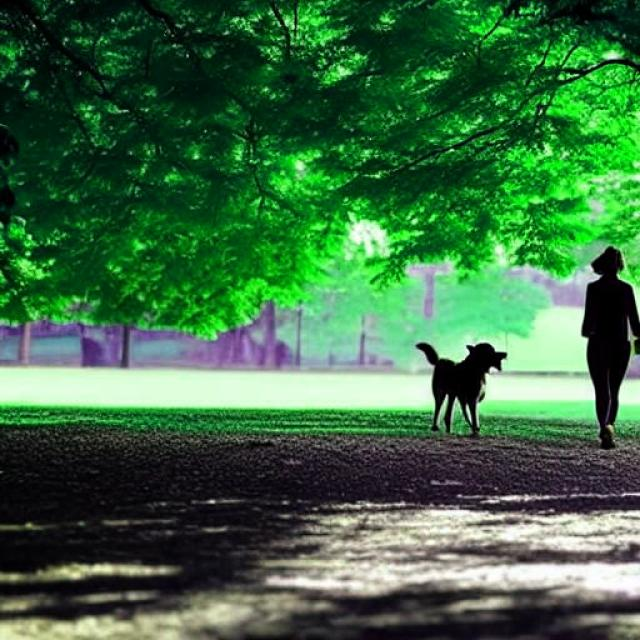Unleashed_Dog: (414, 342, 631, 447)
